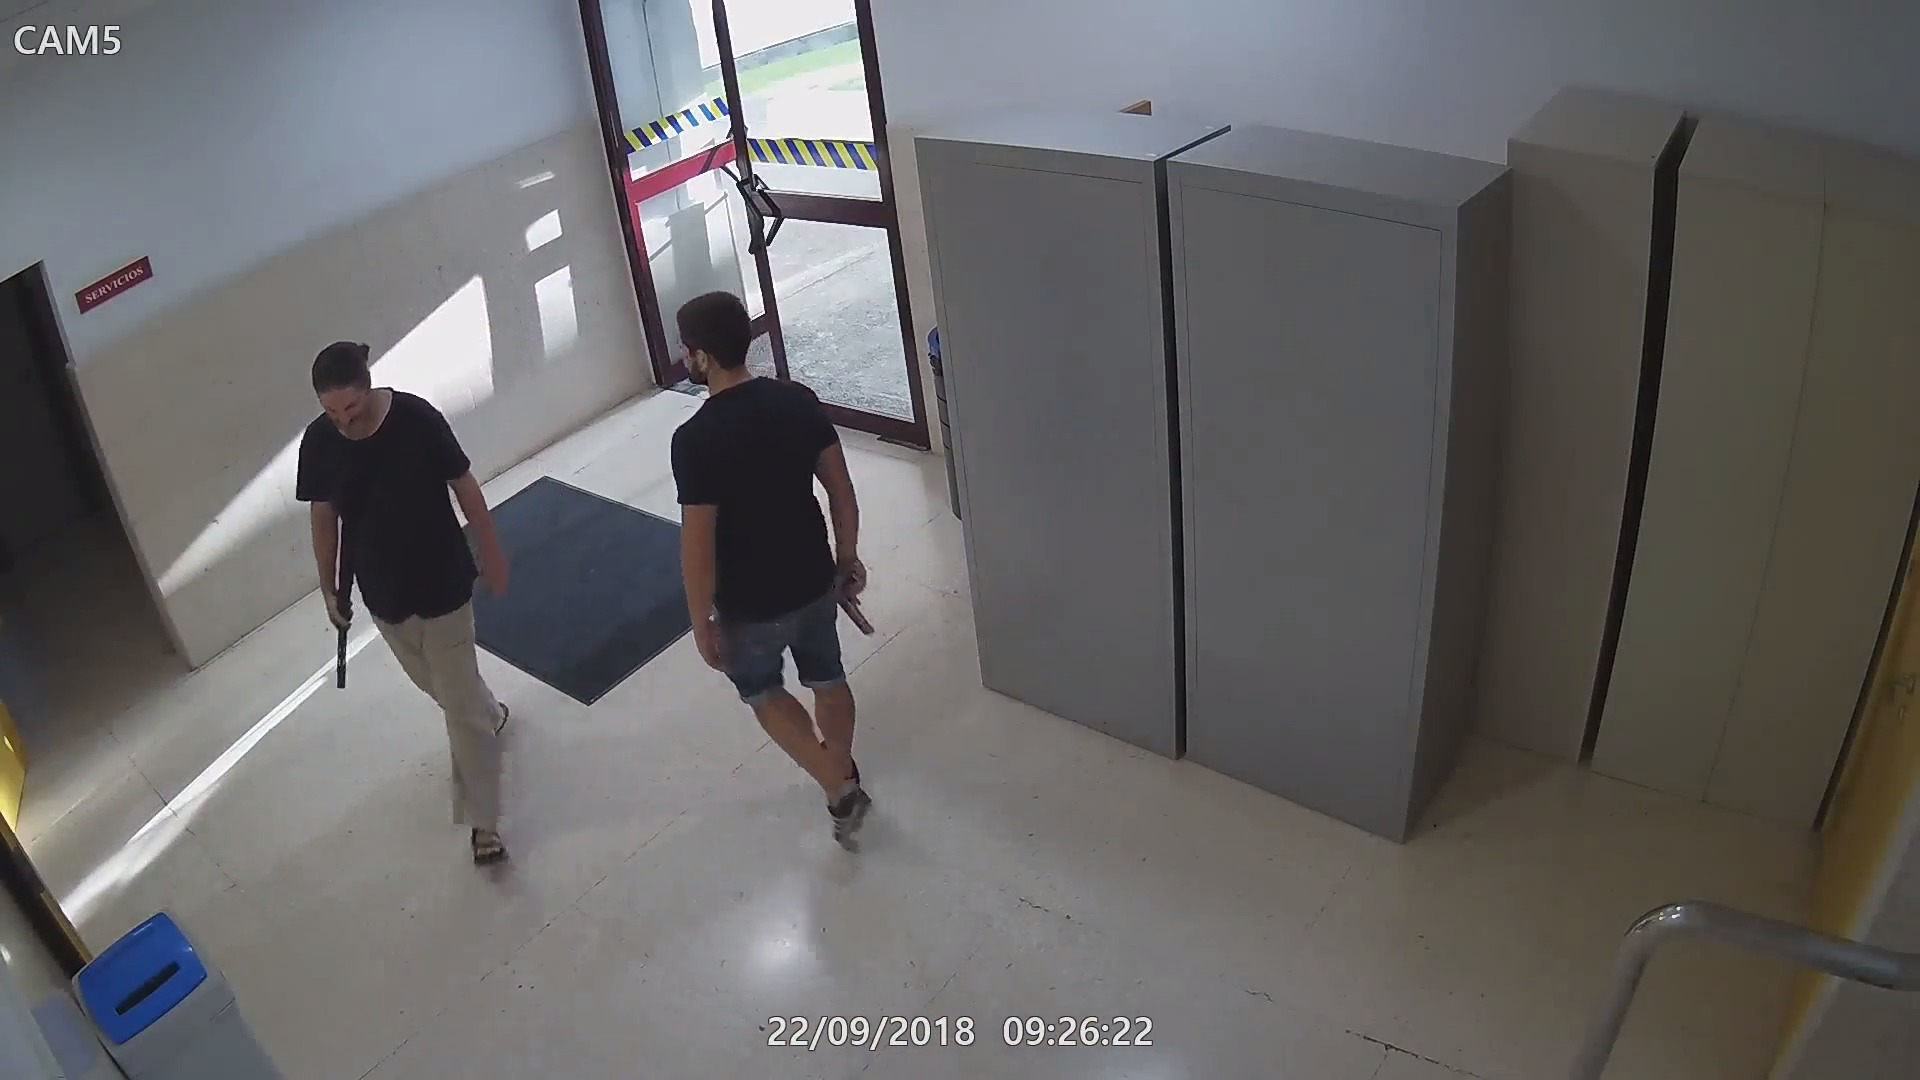Handgun: (822, 555, 880, 638)
Short_rifle: (328, 504, 360, 694)
